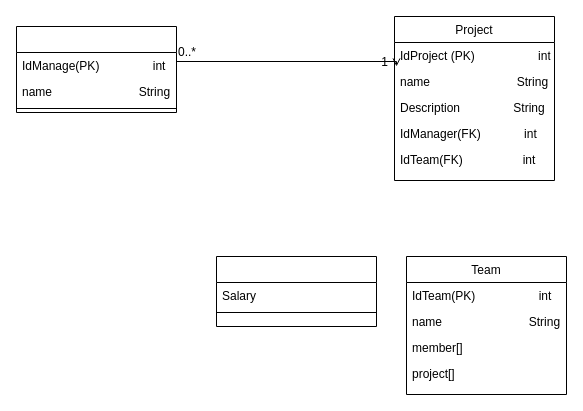
The diagram is 583 pixels wide and 411 high, and some of its shapes have lost their labels. The box of each missing label's shape, as (x1, y1, x2, y2) in pixels:
Manager: (16, 26, 176, 112)
Professor: (216, 256, 376, 326)
